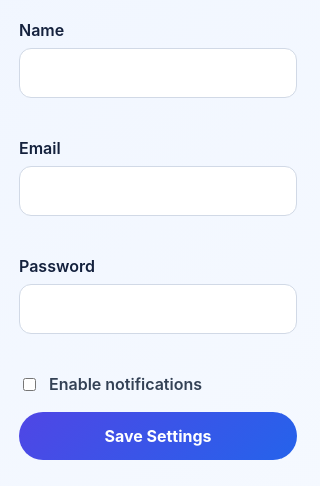
Test: SettingsForm › rejects short password
The width and height of the screenshot is (320, 486).
Type "abc1" into the password field labelled "Password" at (158, 309), box [19,284,297,334]
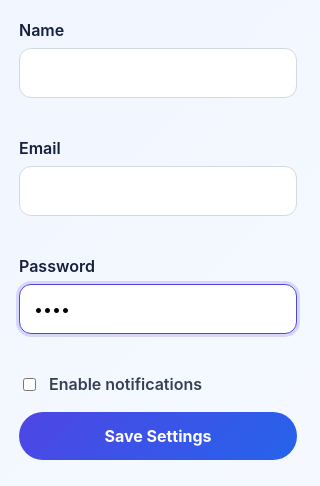
Click the button "Save Settings" at (158, 436), box [19,412,297,460]
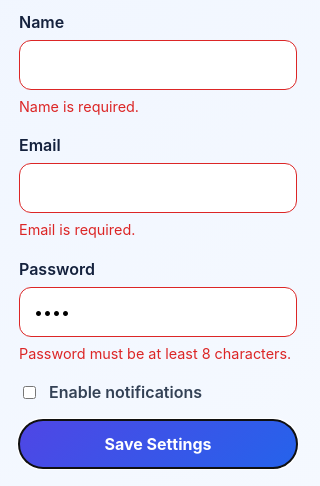
Expected: the text "Password must be at least 8 characters." is shown, [19,343,297,364]
